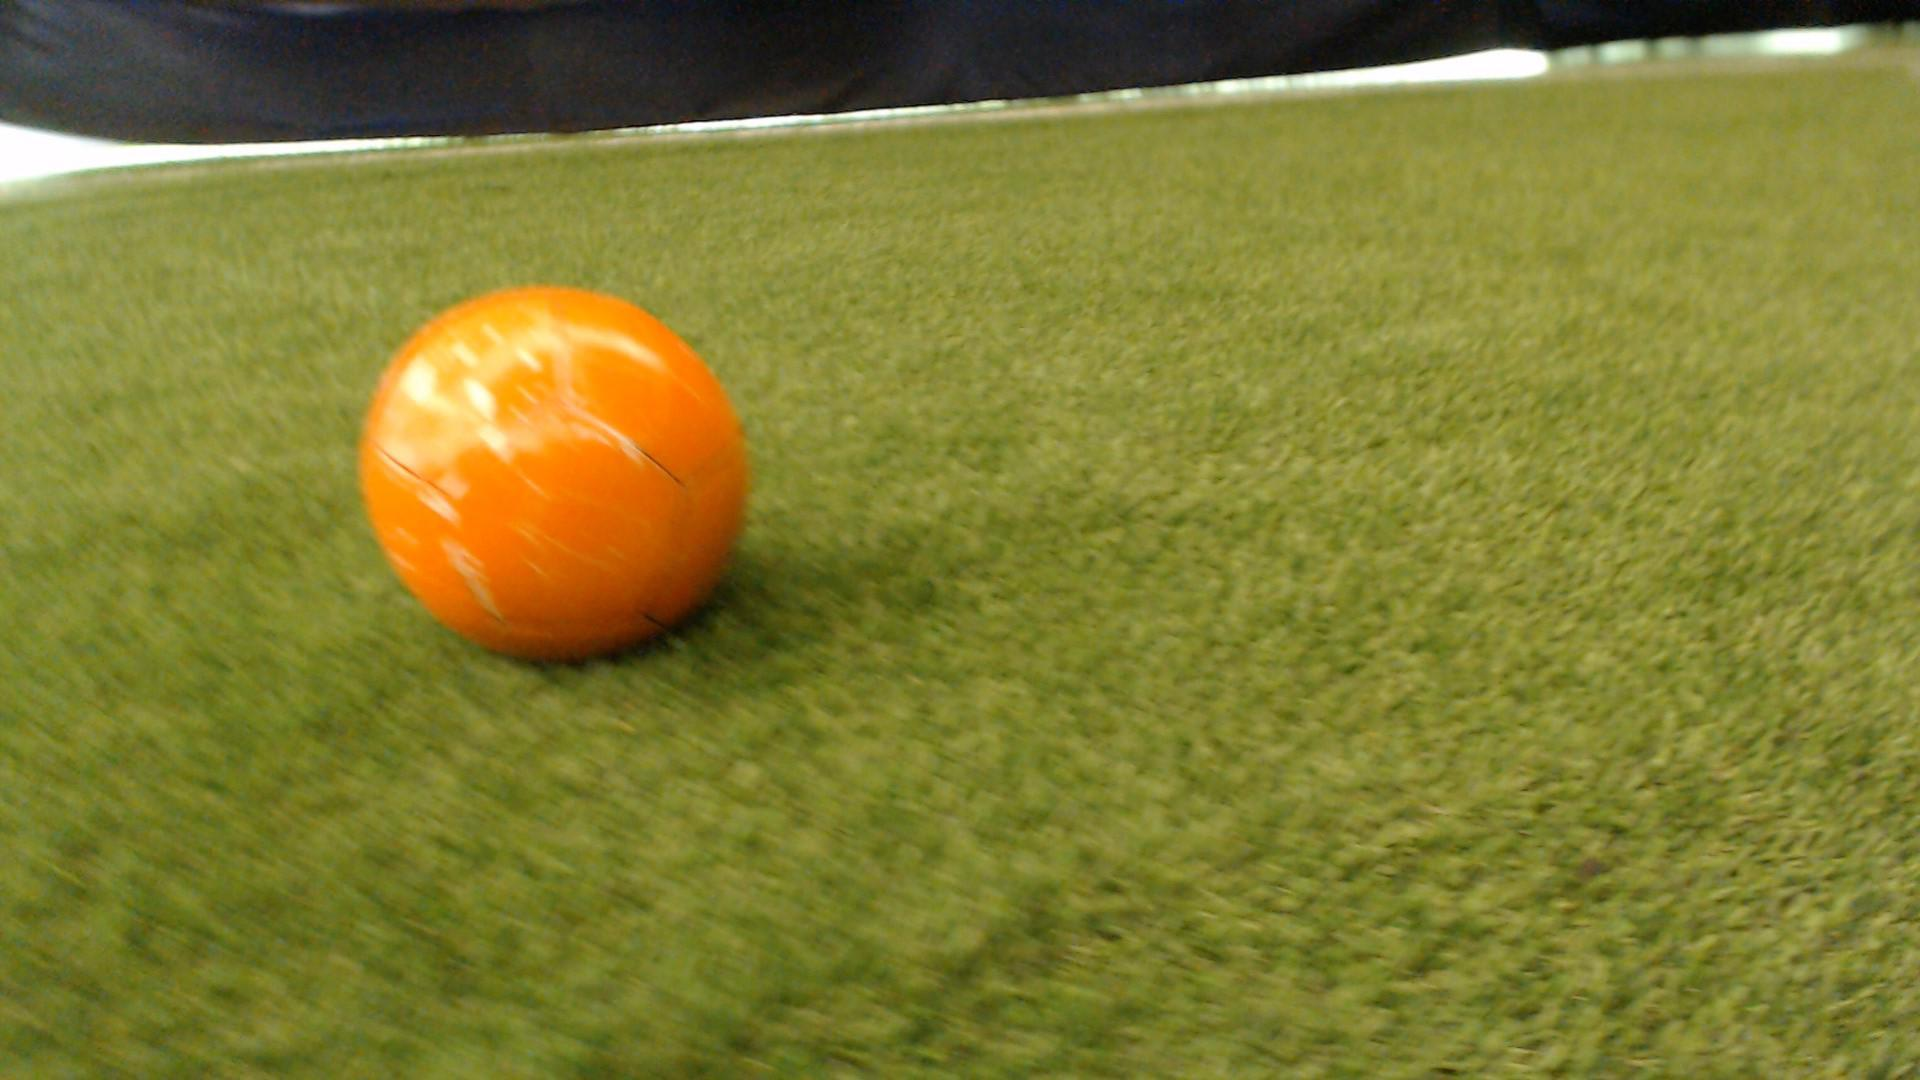bola: (335, 272, 796, 676)
